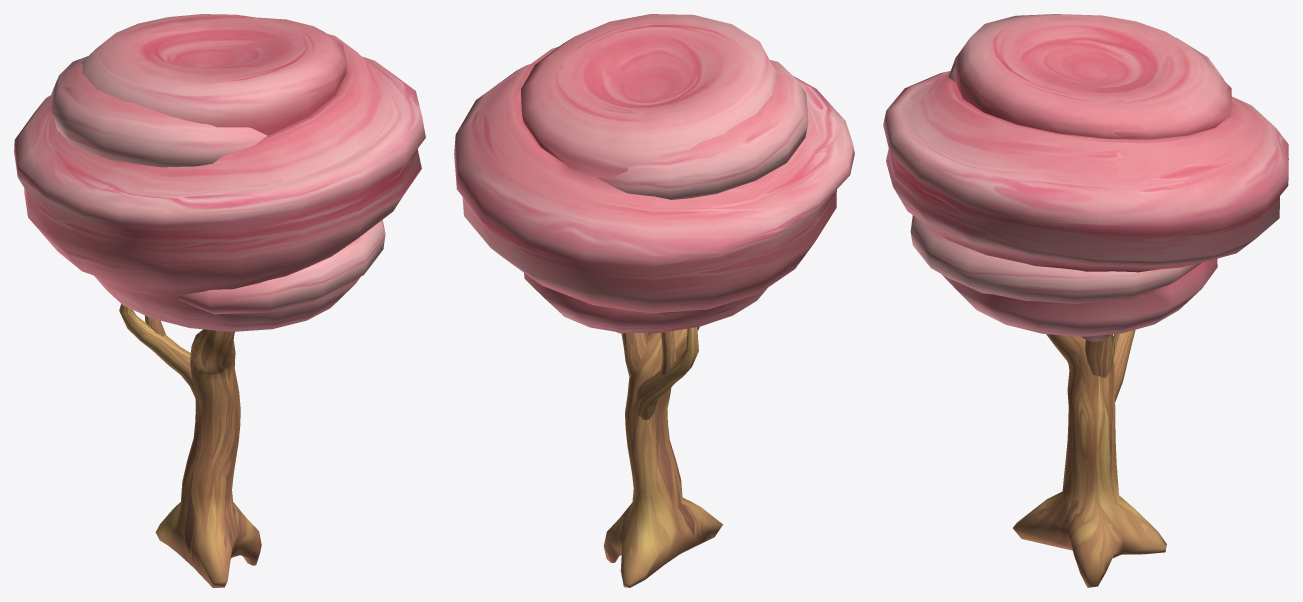
The model's file is SE_CottonCandyTree_03.fbx.
3 renders of one model, left to right at view 1: azimuth 30°, elevation 25°; view 2: azimuth 150°, elevation 25°; view 3: azimuth 270°, elevation 25°, orthographic. The views are drawn at different scales.
Parts seen in each view (by area): view 1: SE_CottonCandyTree_03; view 2: SE_CottonCandyTree_03; view 3: SE_CottonCandyTree_03.
Part boxes in pixels (<box>): SE_CottonCandyTree_03: <box>14,14,425,587</box>; SE_CottonCandyTree_03: <box>454,14,854,587</box>; SE_CottonCandyTree_03: <box>883,14,1288,587</box>.
Size of the model in its own units: 7.69 by 11.11 by 7.84.
